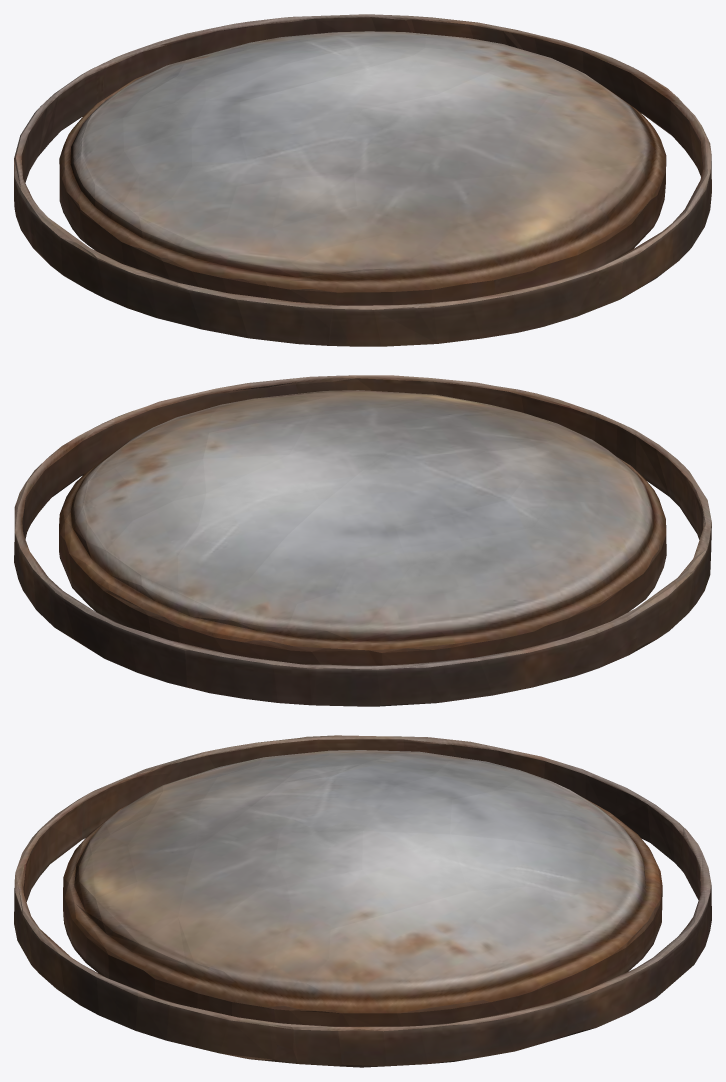
Rendered from hubcap.glb.
The picture shows the model from 3 angles, top to bottom: view 1: azimuth 30°, elevation 25°; view 2: azimuth 150°, elevation 25°; view 3: azimuth 270°, elevation 25°; orthographic projection.
Parts seen in each view (by area): view 1: geometry_0; view 2: geometry_0; view 3: geometry_0.
Boxes of the visible parts, left/top/right/bottom form: geometry_0: left=14, top=14, right=711, bottom=346; geometry_0: left=14, top=375, right=711, bottom=706; geometry_0: left=14, top=735, right=711, bottom=1067.
Bounding box in the file's own units: 0.9996 × 0.1429 × 0.9992.
Materials: 1 (1 with a texture image).
